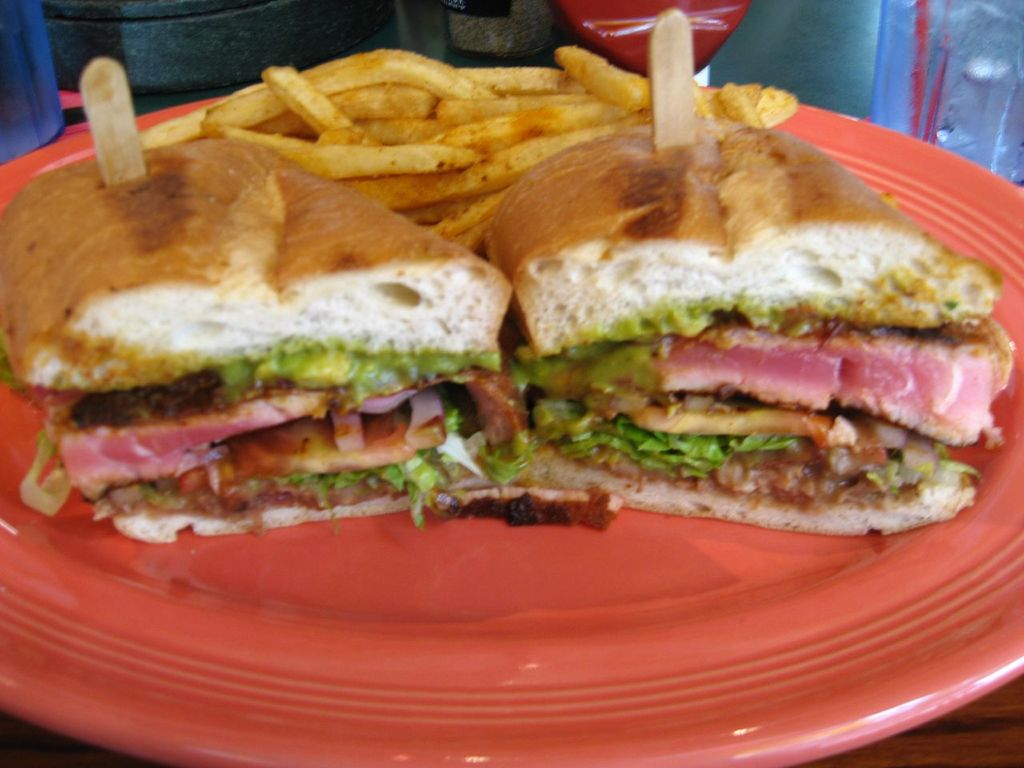French fries: (138, 46, 796, 251)
